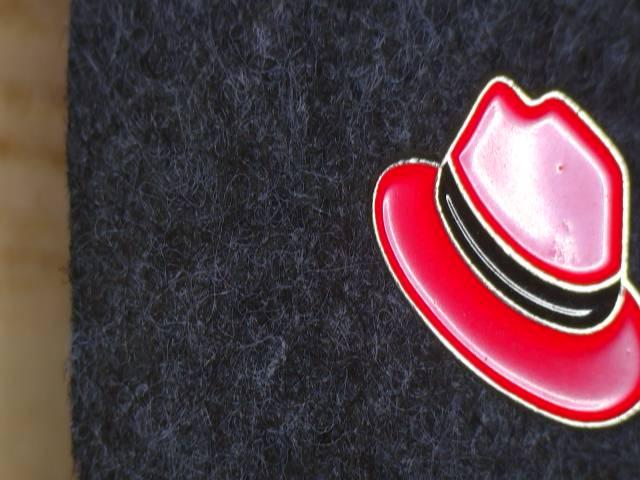Red-Hat: (334, 47, 640, 442)
